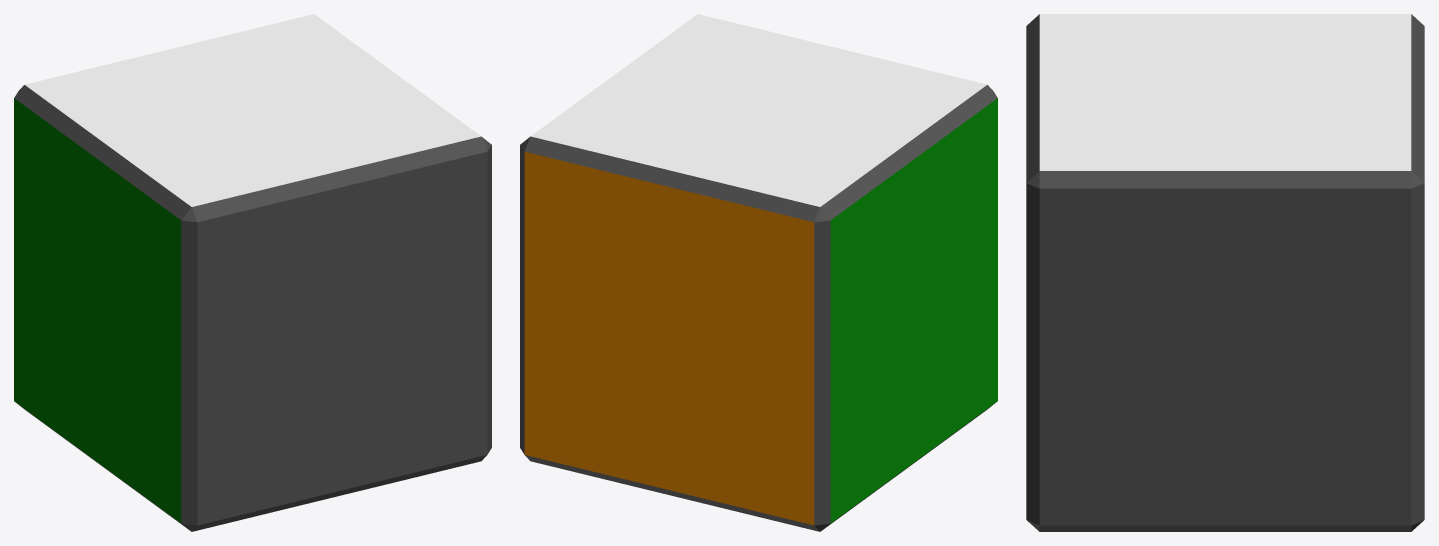
File: wog.obj
3 views of the same model, side by side, from view 1: azimuth 30°, elevation 25°; view 2: azimuth 150°, elevation 25°; view 3: azimuth 270°, elevation 25° (orthographic). The views are drawn at different scales.
Visible parts, largest first — view 1: Cube_Cube.001; view 2: Cube_Cube.001; view 3: Cube_Cube.001.
Part boxes in pixels (x1,y1,x2,y2): Cube_Cube.001: (14,14,491,531); Cube_Cube.001: (520,14,997,531); Cube_Cube.001: (1026,14,1424,531).
Bounding box in the file's own units: 20 × 20 × 20.
